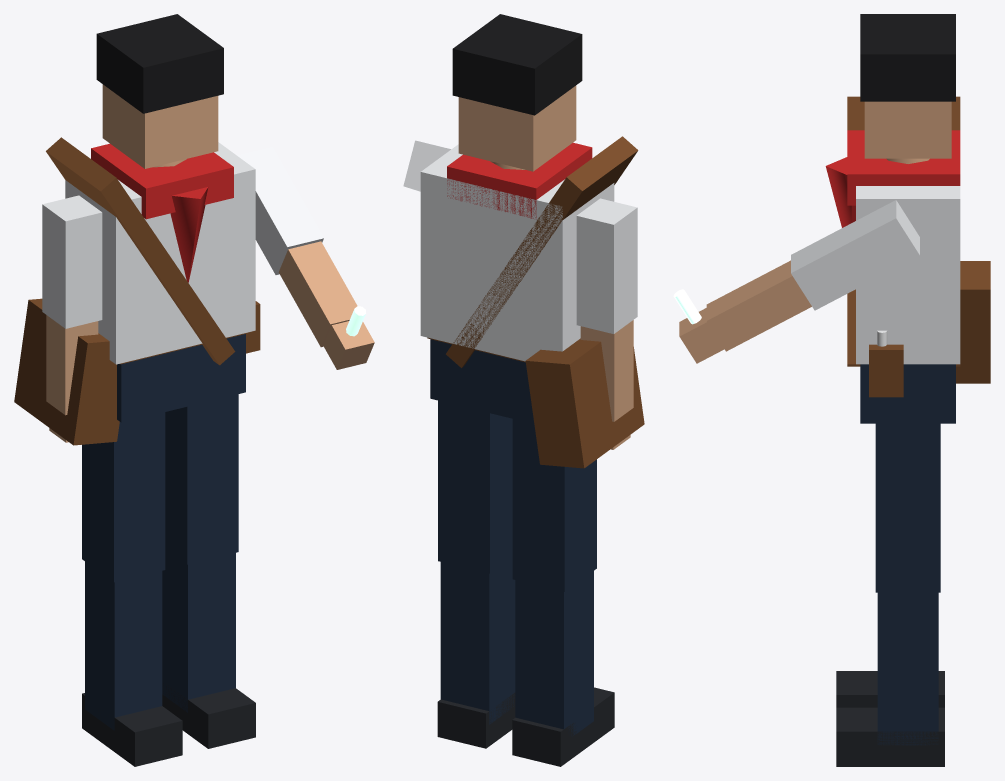
The model's file is CB_CHAR_Player_A.glb.
3 renders of one model, left to right at view 1: azimuth 30°, elevation 25°; view 2: azimuth 150°, elevation 25°; view 3: azimuth 270°, elevation 25°, orthographic. The views are drawn at different scales.
Visible parts, largest first — view 1: CB_CHAR_Player_A; view 2: CB_CHAR_Player_A; view 3: CB_CHAR_Player_A.
Boxes of the visible parts, x1,y1,x2,y2 form: CB_CHAR_Player_A: (14,14,374,766); CB_CHAR_Player_A: (403,14,644,766); CB_CHAR_Player_A: (673,14,990,766).
Bounding box in the file's own units: 0.58 × 1.79 × 0.7306.
